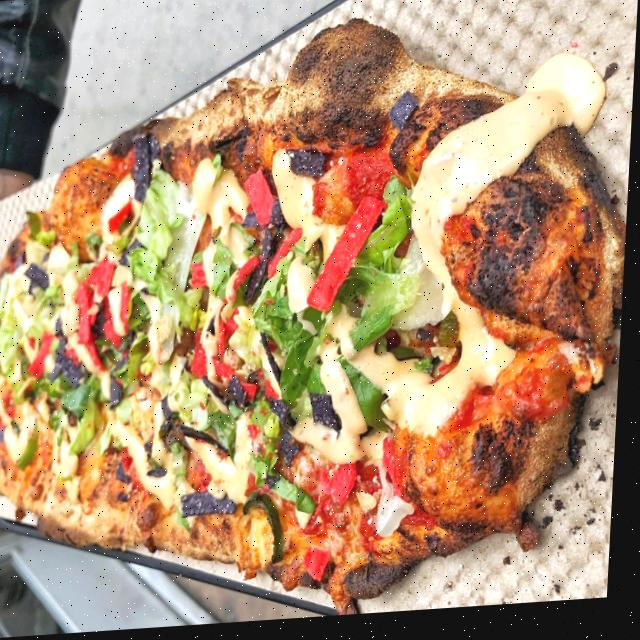pizza: (0, 1, 639, 640)
